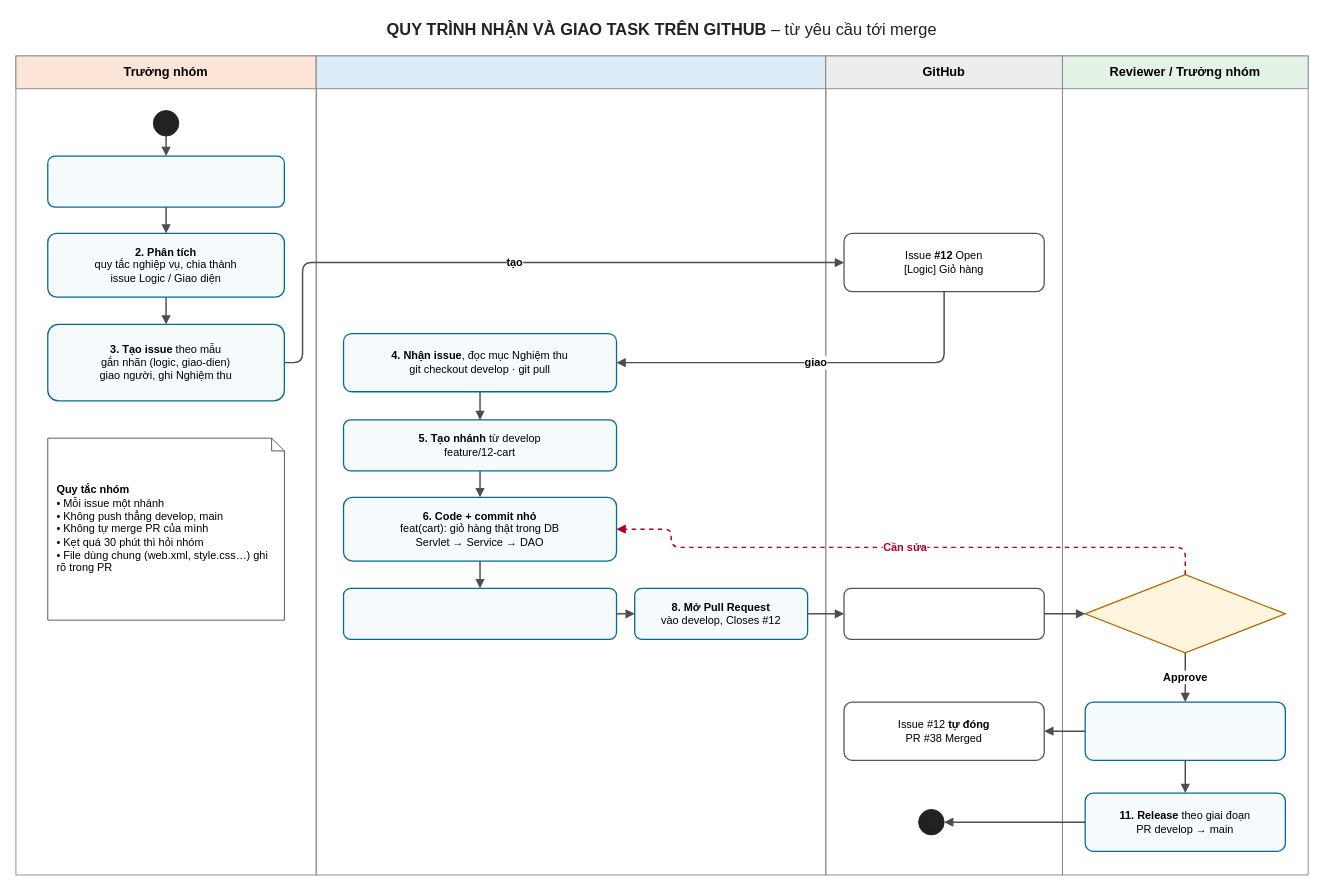
This 1324x891 diagram has some shape labels left out. Here are the shapes that lost their labels. From the top down, the box of each, then its label:
(315, 55, 826, 89): Thành viên nhận issue
(47, 155, 285, 207): 1. Nhận yêu cầu đề bài, góp ý của giảng viên
(342, 587, 617, 639): 7. Tự test theo Nghiệm thu, pull develop, git push
(843, 587, 1044, 639): PR #38 Open feature/12-cart → develop
(1084, 574, 1286, 653): 9. Review đúng luồng tầng? PreparedStatement? test?
(1084, 701, 1286, 760): 10. Merge commit vào develop, xóa nhánh
